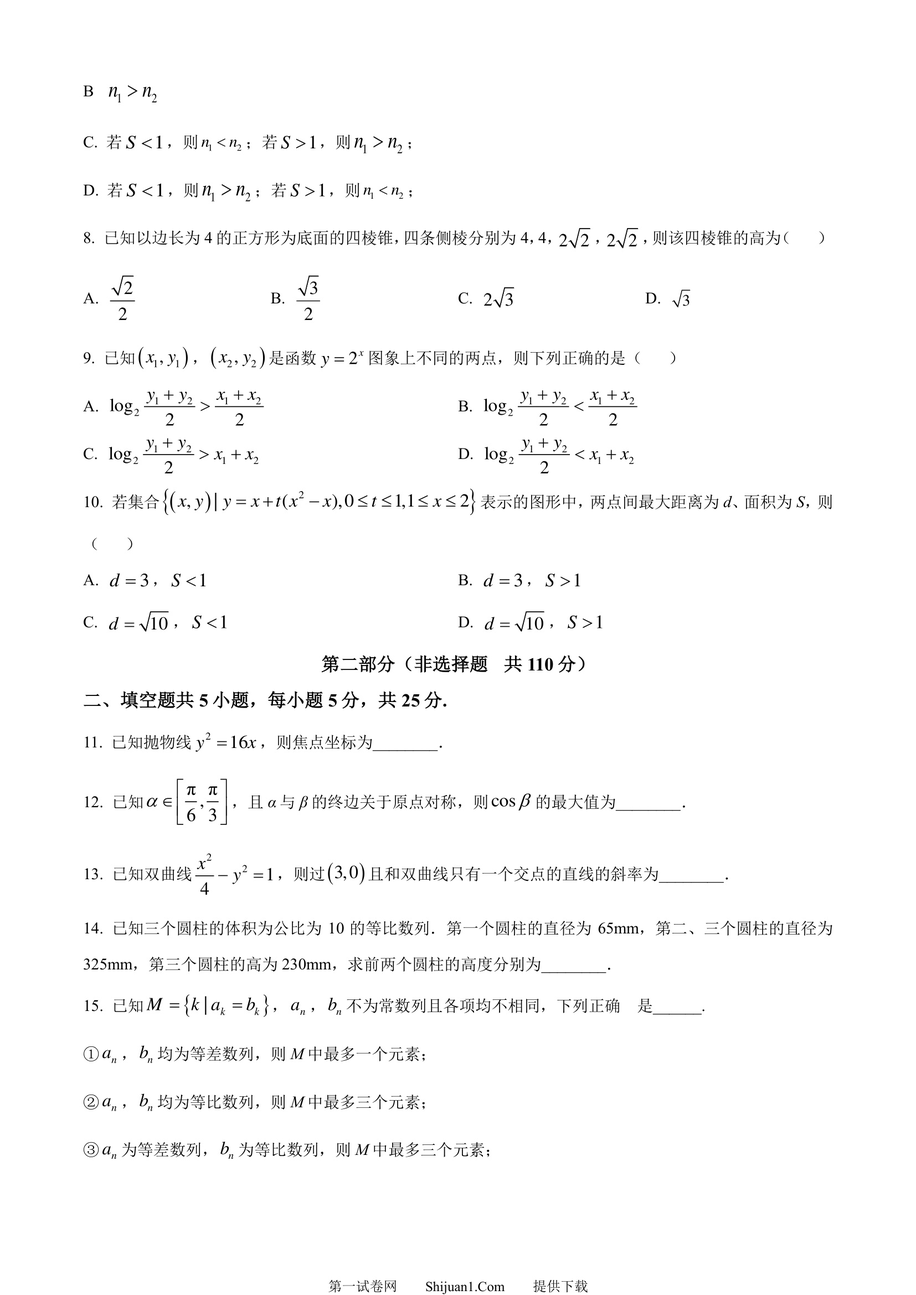question: (70, 986, 749, 1193), (68, 480, 867, 654), (66, 326, 718, 480), (66, 213, 853, 329), (70, 899, 858, 988), (66, 69, 444, 218), (70, 764, 720, 834), (70, 834, 761, 899), (70, 726, 470, 764)
